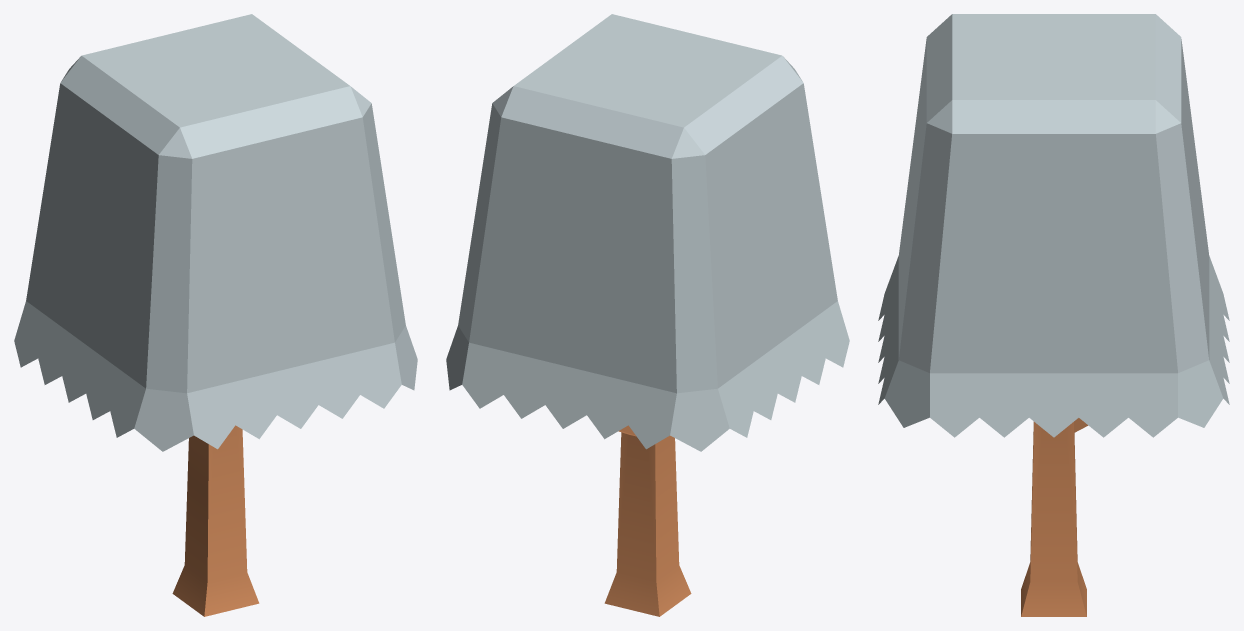
File: treeSnow.dae
3 renders of one model, left to right at view 1: azimuth 30°, elevation 25°; view 2: azimuth 150°, elevation 25°; view 3: azimuth 270°, elevation 25°, orthographic. The views are drawn at different scales.
Visible parts, largest first — view 1: treeSnow; view 2: treeSnow; view 3: treeSnow.
Part boxes in pixels (box(x1,y1,x2,y2)): treeSnow: box(14, 14, 417, 616); treeSnow: box(446, 14, 849, 616); treeSnow: box(878, 14, 1229, 616).
Size of the model in its own units: 1.13 by 1.94 by 1.13.
